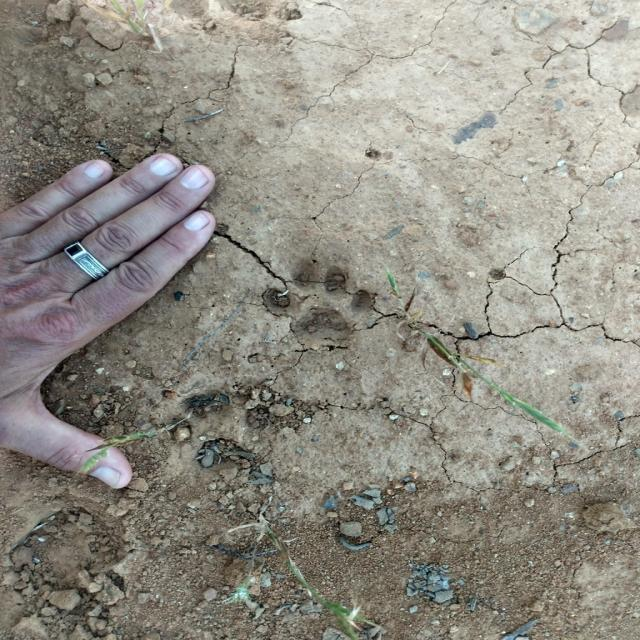felid: (264, 260, 374, 348), (170, 387, 268, 472)
